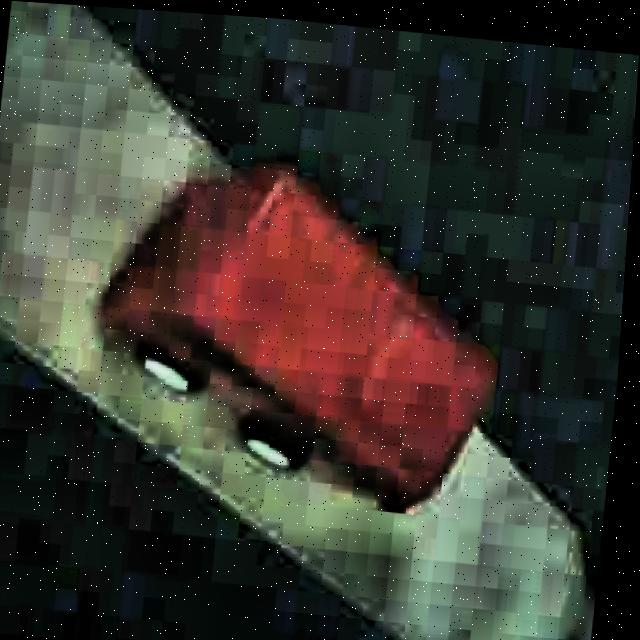bus: (80, 150, 515, 522)
